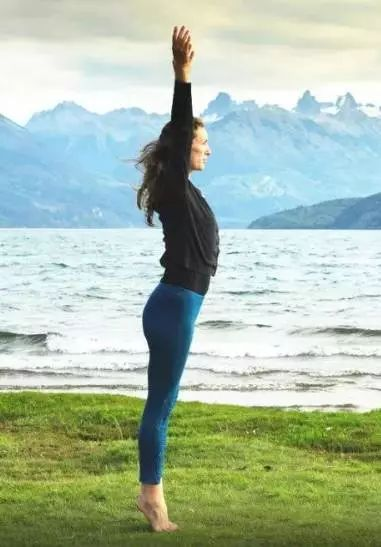handsup: (125, 20, 237, 533)
